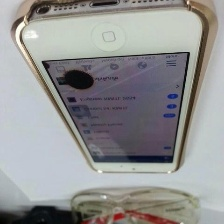phone: (5, 0, 217, 176)
